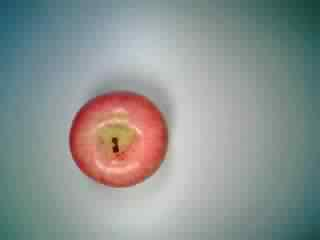apple: (69, 88, 173, 189)
